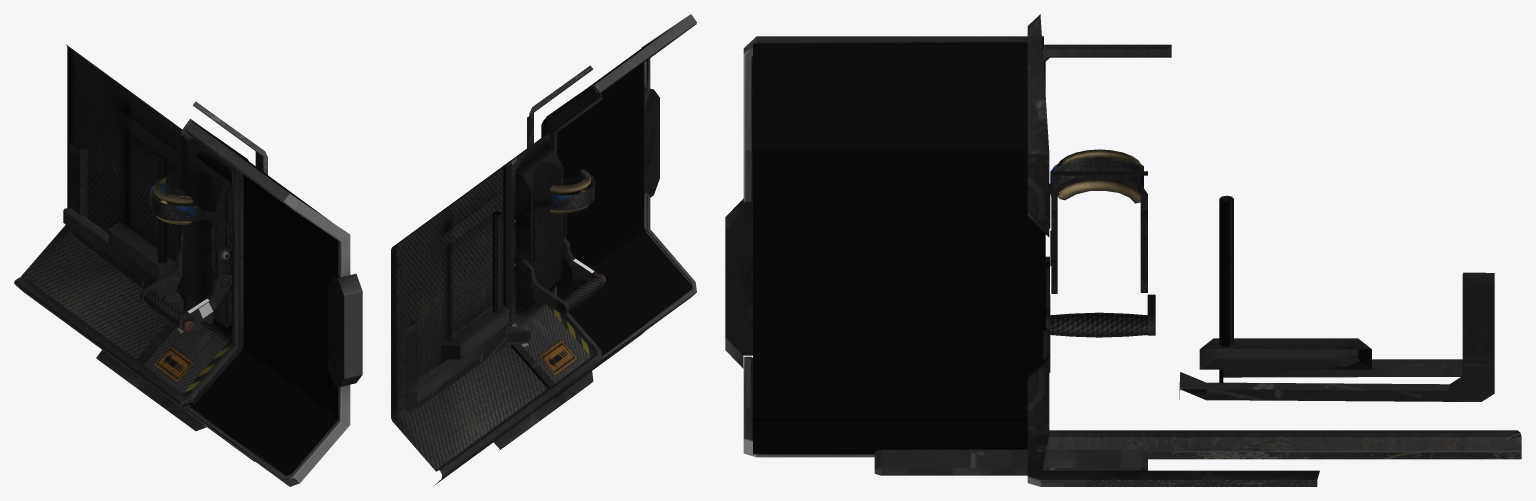
The model's file is t6_wpn_shield_view_LOD0.obj.
3 views of the same model, side by side, from view 1: azimuth 30°, elevation 25°; view 2: azimuth 150°, elevation 25°; view 3: azimuth 270°, elevation 25° (orthographic). The views are drawn at different scales.
Parts seen in each view (by area): view 1: mtl_t6_wpn_shield, mtl_t6_wpn_shield_glass_sortfx, mtl_t6_wpn_shield_camo1, mtl_t6_wpn_shield_camo3; view 2: mtl_t6_wpn_shield, mtl_t6_wpn_shield_glass_sortfx, mtl_t6_wpn_shield_camo1, mtl_t6_wpn_shield_camo3; view 3: mtl_t6_wpn_shield_glass_sortfx, mtl_t6_wpn_shield, mtl_t6_wpn_shield_camo1, mtl_t6_wpn_shield_camo3.
Part boxes in pixels (x1=…): mtl_t6_wpn_shield: x1=20, y1=44, x2=362, y2=486; mtl_t6_wpn_shield_glass_sortfx: x1=191, y1=138, x2=339, y2=475; mtl_t6_wpn_shield_camo1: x1=14, y1=99, x2=267, y2=430; mtl_t6_wpn_shield_camo3: x1=144, y1=185, x2=227, y2=329; mtl_t6_wpn_shield: x1=391, y1=14, x2=696, y2=471; mtl_t6_wpn_shield_glass_sortfx: x1=541, y1=28, x2=691, y2=354; mtl_t6_wpn_shield_camo1: x1=433, y1=65, x2=602, y2=486; mtl_t6_wpn_shield_camo3: x1=559, y1=174, x2=605, y2=311; mtl_t6_wpn_shield_glass_sortfx: x1=753, y1=43, x2=1042, y2=454; mtl_t6_wpn_shield: x1=725, y1=36, x2=1494, y2=475; mtl_t6_wpn_shield_camo1: x1=1027, y1=14, x2=1521, y2=486; mtl_t6_wpn_shield_camo3: x1=1050, y1=157, x2=1147, y2=337.
Size of the model in its own units: 24.41 by 86.96 by 133.
